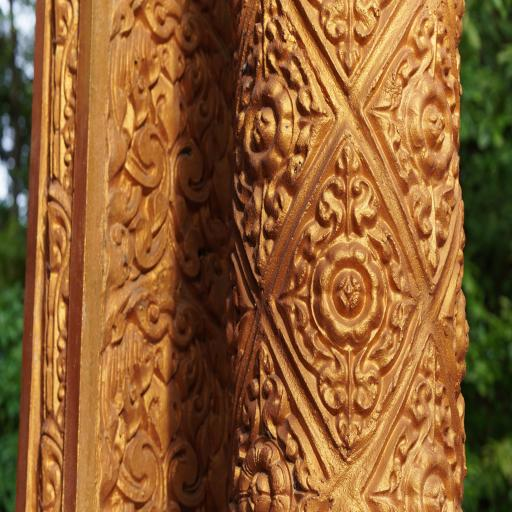hoa: (308, 235, 390, 351), (237, 78, 298, 184), (403, 80, 458, 182), (232, 433, 294, 512), (406, 439, 456, 512), (454, 290, 471, 370)
la: (102, 0, 234, 326), (99, 265, 234, 512), (296, 141, 407, 276), (304, 346, 397, 457), (402, 334, 463, 462), (270, 210, 318, 372), (382, 216, 423, 384), (40, 194, 67, 432), (238, 340, 299, 445), (310, 0, 390, 76), (441, 250, 475, 426), (234, 174, 293, 272), (290, 59, 336, 183), (404, 182, 461, 281), (403, 2, 466, 81), (366, 52, 405, 178), (52, 0, 76, 192), (240, 0, 298, 79), (291, 421, 330, 512), (364, 432, 406, 512), (40, 414, 63, 512)
